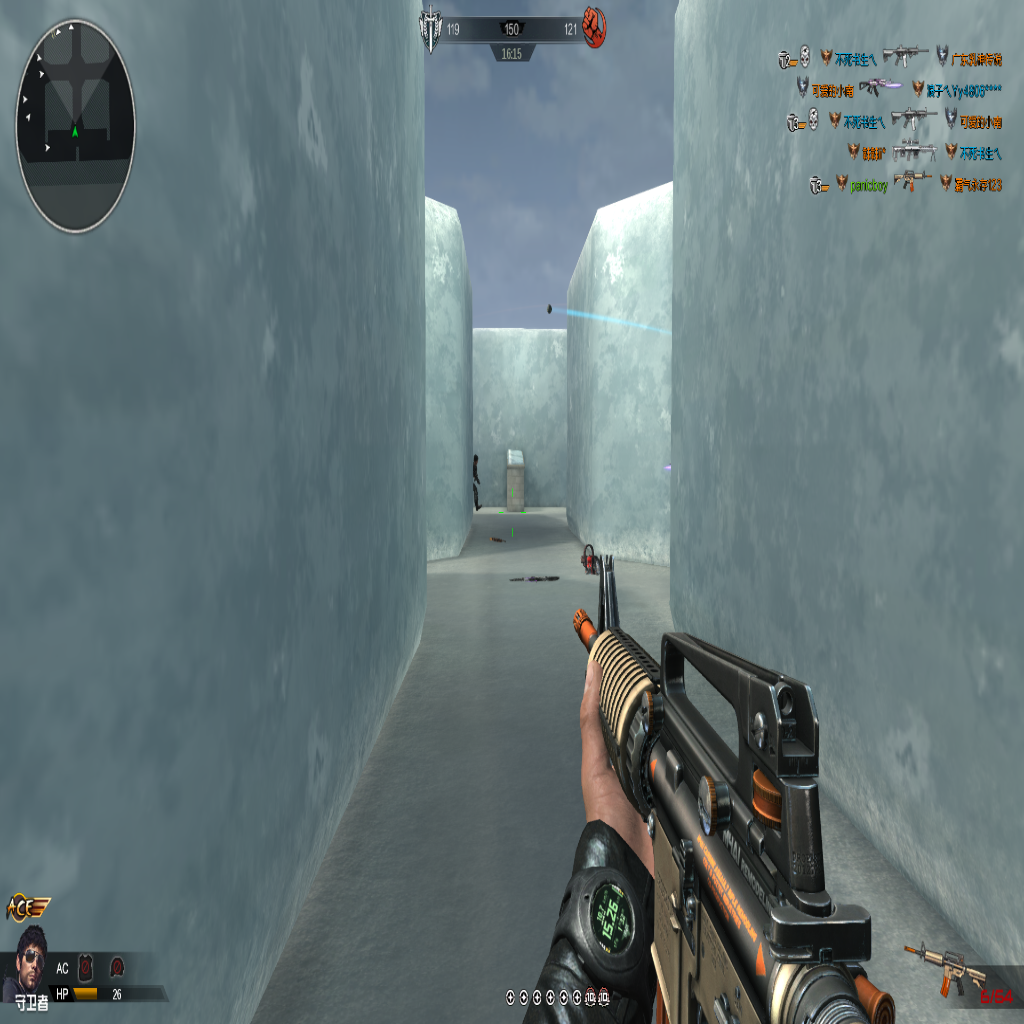ct: (471, 450, 482, 512)
